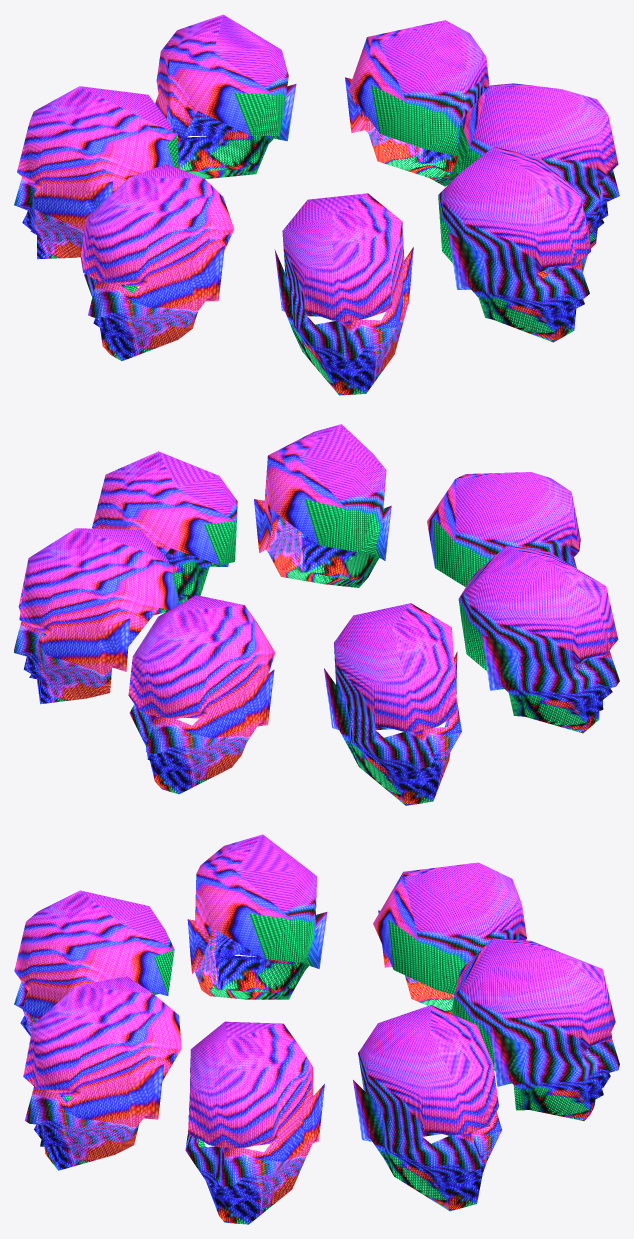
File: Dancer6.glb
The picture shows the model from 3 angles, top to bottom: view 1: azimuth 30°, elevation 25°; view 2: azimuth 150°, elevation 25°; view 3: azimuth 270°, elevation 25°; orthographic projection. The views are drawn at different scales.
Visible parts, largest first — view 1: CC_Base_Body.004; view 2: CC_Base_Body.004; view 3: CC_Base_Body.004.
Part boxes in pixels (<box>): CC_Base_Body.004: <box>14,14,619,395</box>; CC_Base_Body.004: <box>14,424,619,805</box>; CC_Base_Body.004: <box>14,834,619,1224</box>.
Bounding box in the file's own units: 2.8 × 0.8552 × 2.76.
Materials: 1 (1 with a texture image).
